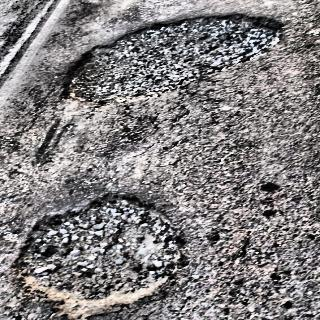pothole: (49, 10, 277, 104), (20, 197, 188, 310)
